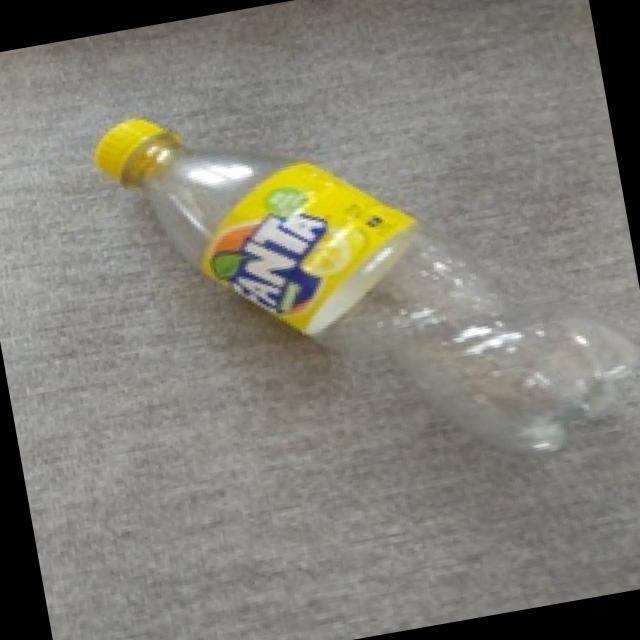good: (64, 21, 640, 546)
